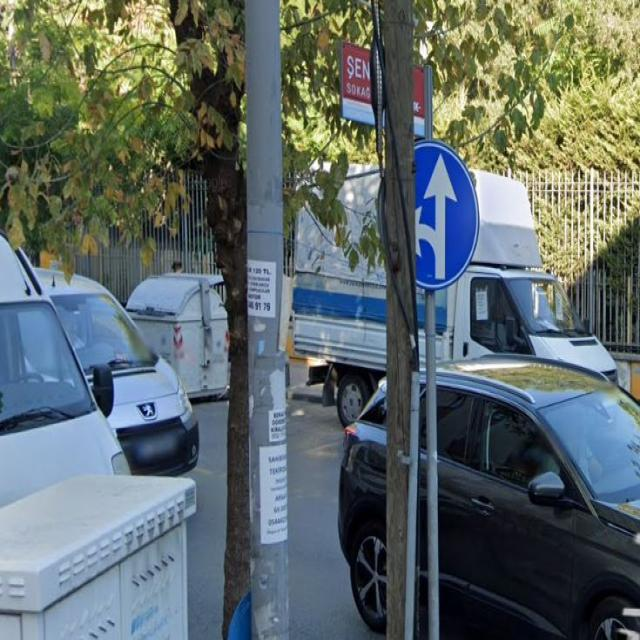ilerisol: (383, 142, 480, 286)
